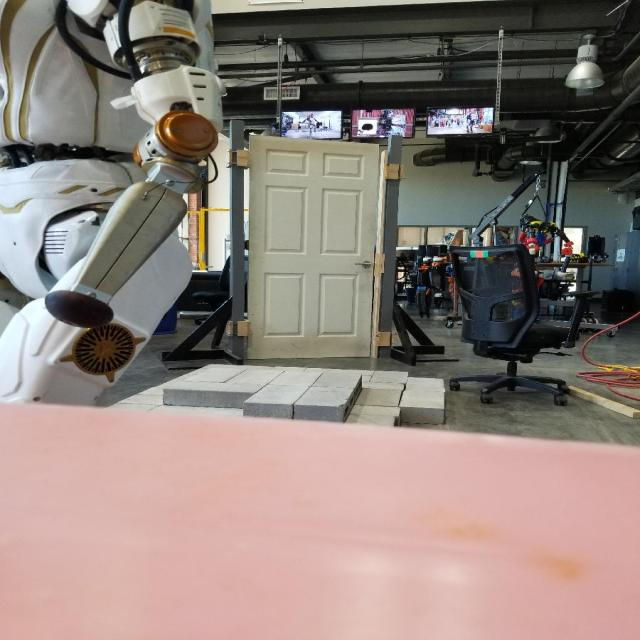doorhandle: (351, 259, 374, 273)
